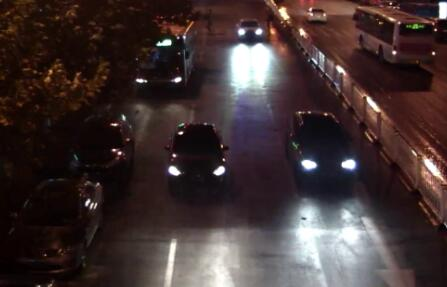bus: (349, 3, 440, 70), (132, 12, 199, 94)
car: (9, 178, 104, 277), (283, 106, 360, 190), (58, 107, 134, 184), (165, 116, 231, 191), (233, 14, 265, 43), (303, 5, 329, 27)
